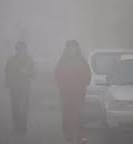person: (54, 39, 95, 144), (4, 40, 35, 136)
